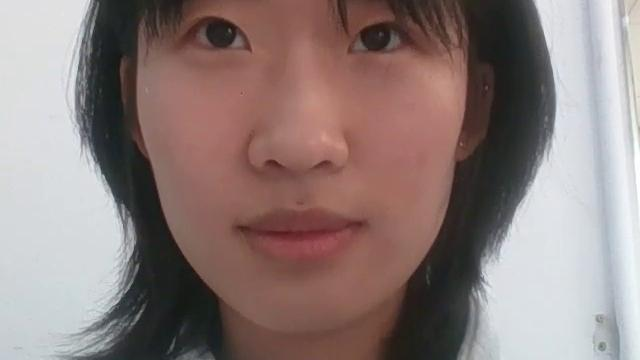eye: (206, 19, 236, 47), (361, 25, 390, 51)
iris: (188, 16, 253, 52), (347, 22, 411, 56)
